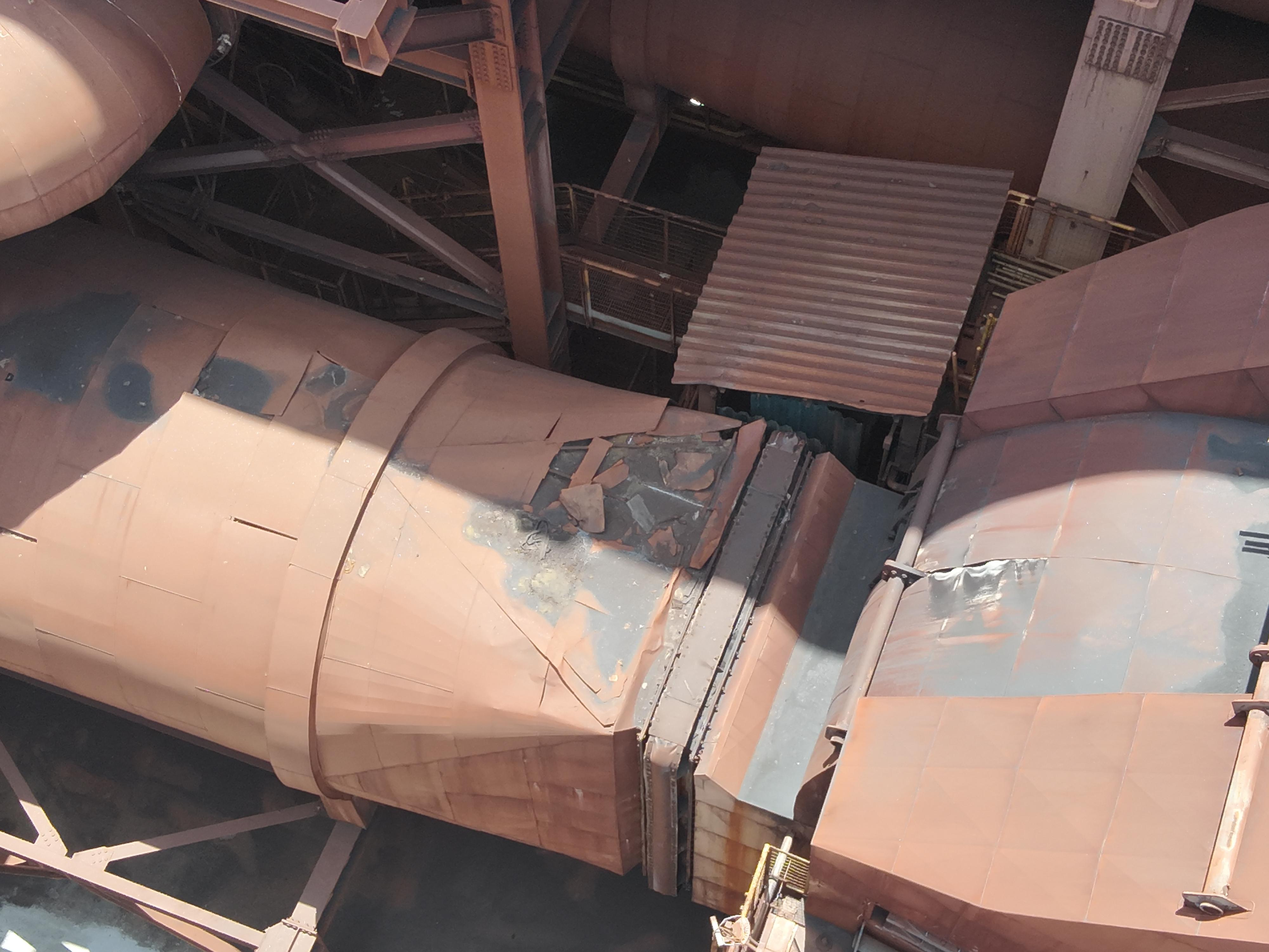Failures: (534, 421, 748, 602), (174, 340, 376, 432), (917, 547, 1065, 629)
